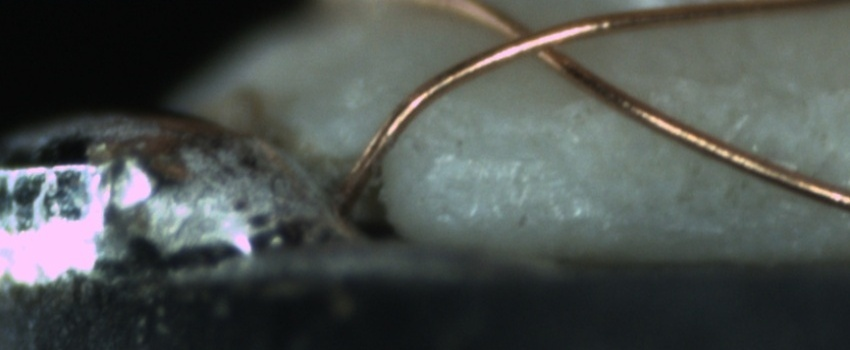CL: (489, 13, 581, 71)
DL: (427, 127, 562, 185)
